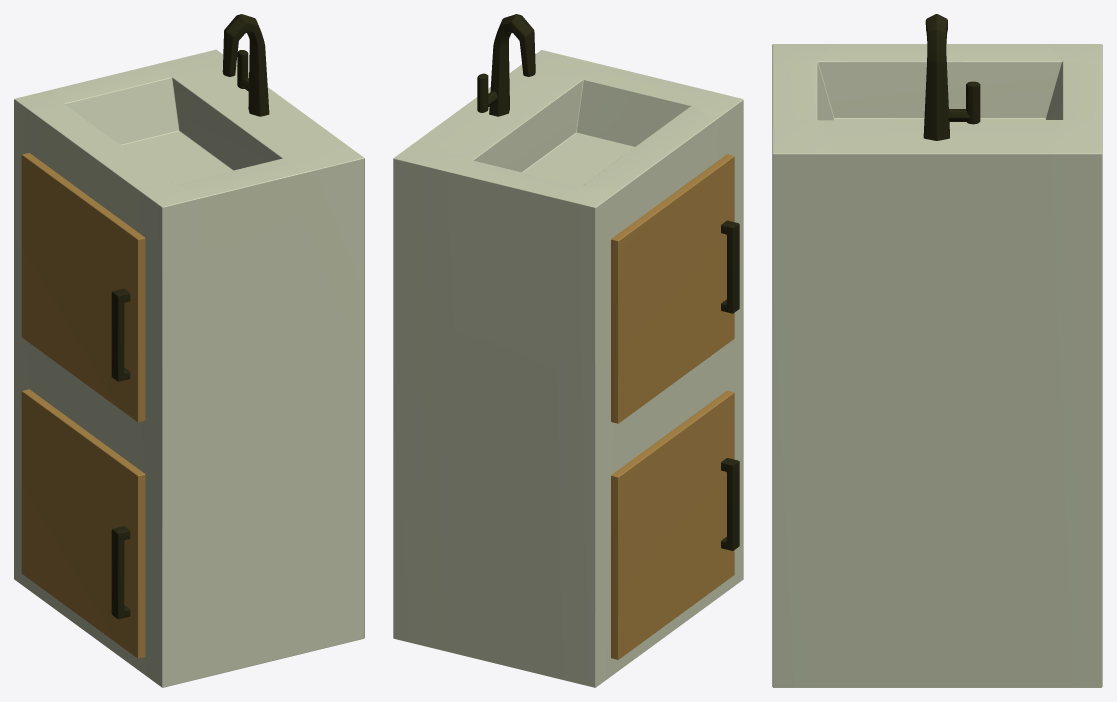
The model's file is lavadero baño.fbx.
3 views of the same model, side by side, from view 1: azimuth 30°, elevation 25°; view 2: azimuth 150°, elevation 25°; view 3: azimuth 270°, elevation 25° (orthographic). The views are drawn at different scales.
Parts seen in each view (by area): view 1: polySurface27; view 2: polySurface27; view 3: polySurface27.
Boxes of the visible parts, x1,y1,x2,y2 form: polySurface27: (14,14,364,687); polySurface27: (393,14,743,687); polySurface27: (772,14,1102,687).
Bounding box in the file's own units: 33.12 × 82.61 × 38.19.
